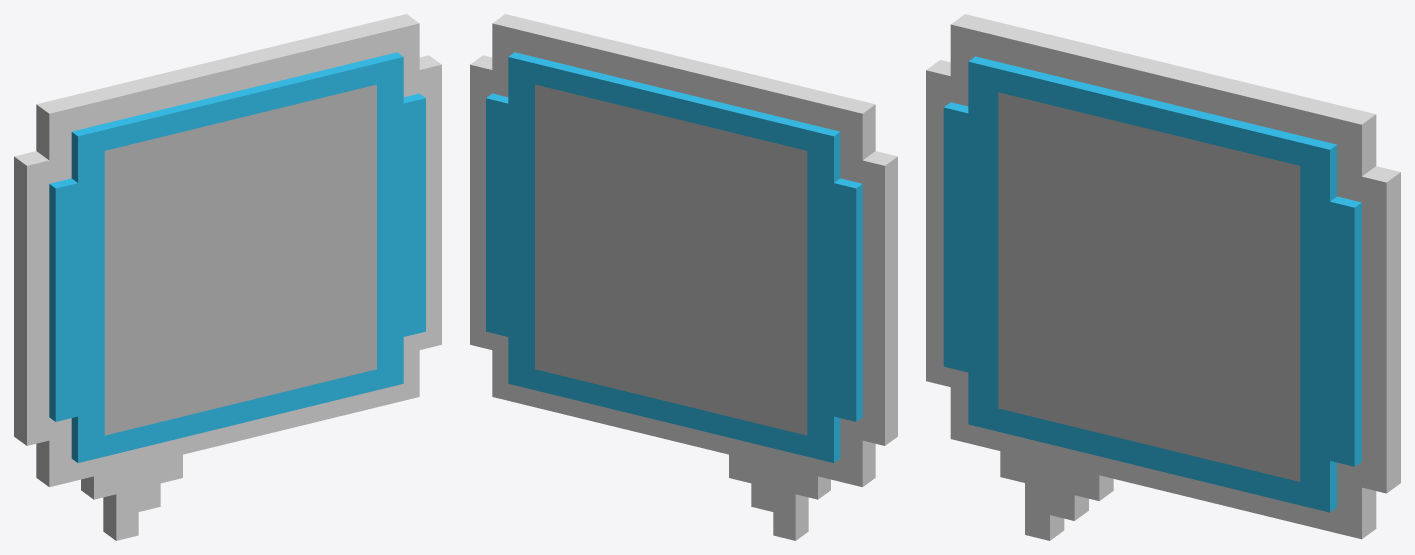
Rendered from Noti.fbx.
3 renders of one model, left to right at view 1: azimuth 30°, elevation 25°; view 2: azimuth 150°, elevation 25°; view 3: azimuth 330°, elevation 25°, orthographic. The views are drawn at different scales.
Parts seen in each view (by area): view 1: Noti; view 2: Noti; view 3: Noti.
Boxes of the visible parts, bbox=[...] form: Noti: bbox=[14, 14, 441, 540]; Noti: bbox=[470, 14, 897, 540]; Noti: bbox=[926, 14, 1400, 540].
Bounding box in the file's own units: 116 × 119 × 12.5.
